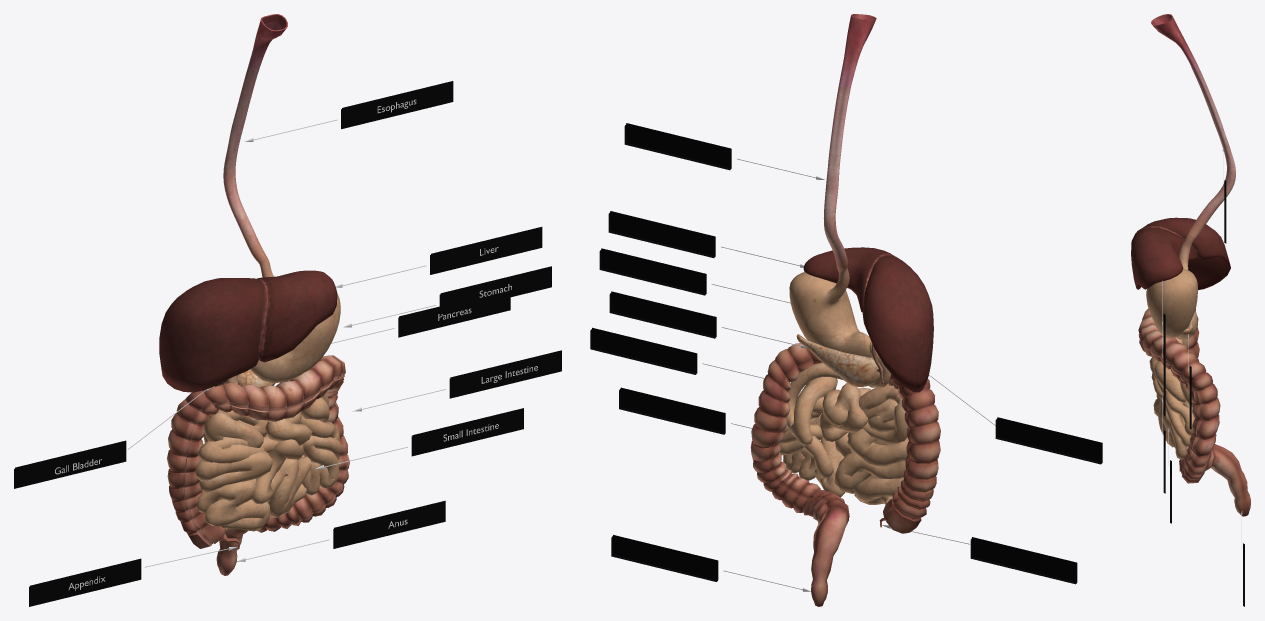
The model's file is digestive_system.glb.
3 renders of one model, left to right at view 1: azimuth 30°, elevation 25°; view 2: azimuth 150°, elevation 25°; view 3: azimuth 270°, elevation 25°, orthographic. The views are drawn at different scales.
Parts seen in each view (by area): view 1: DigestiveSystem001_Digestive_System_0, Plane.008, Plane.001, Plane.002, Plane.009, Plane.003, Plane.004, Plane.005, Plane.007, Plane.006; view 2: DigestiveSystem001_Digestive_System_0, Plane.006, Plane.005, Plane.001, Plane.008, Plane.009, Plane.002, Plane.007, Plane.004, Plane.003; view 3: DigestiveSystem001_Digestive_System_0, Plane.007, Plane.008, Plane.002, Plane.006.
Boxes of the visible parts, left/top/right/bottom form: DigestiveSystem001_Digestive_System_0: left=159, top=14, right=349, bottom=575; Plane.008: left=430, top=227, right=542, bottom=274; Plane.001: left=333, top=500, right=445, bottom=548; Plane.002: left=449, top=350, right=561, bottom=398; Plane.009: left=439, top=266, right=551, bottom=314; Plane.003: left=411, top=408, right=523, bottom=456; Plane.004: left=29, top=558, right=141, bottom=606; Plane.005: left=14, top=440, right=126, bottom=488; Plane.007: left=341, top=81, right=453, bottom=129; Plane.006: left=398, top=297, right=510, bottom=337; DigestiveSystem001_Digestive_System_0: left=750, top=14, right=940, bottom=606; Plane.006: left=609, top=291, right=716, bottom=338; Plane.005: left=995, top=417, right=1102, bottom=464; Plane.001: left=611, top=535, right=718, bottom=581; Plane.008: left=608, top=211, right=715, bottom=257; Plane.009: left=599, top=248, right=706, bottom=295; Plane.002: left=590, top=327, right=697, bottom=374; Plane.007: left=624, top=123, right=731, bottom=170; Plane.004: left=970, top=537, right=1077, bottom=584; Plane.003: left=619, top=387, right=725, bottom=434; DigestiveSystem001_Digestive_System_0: left=1131, top=14, right=1250, bottom=516; Plane.007: left=1224, top=180, right=1226, bottom=243; Plane.008: left=1163, top=314, right=1165, bottom=377; Plane.002: left=1163, top=430, right=1165, bottom=493; Plane.006: left=1189, top=366, right=1191, bottom=429.
Bounding box in the file's own units: 4.38 × 4.55 × 0.9903.
Materials: 10 (1 with a texture image).
